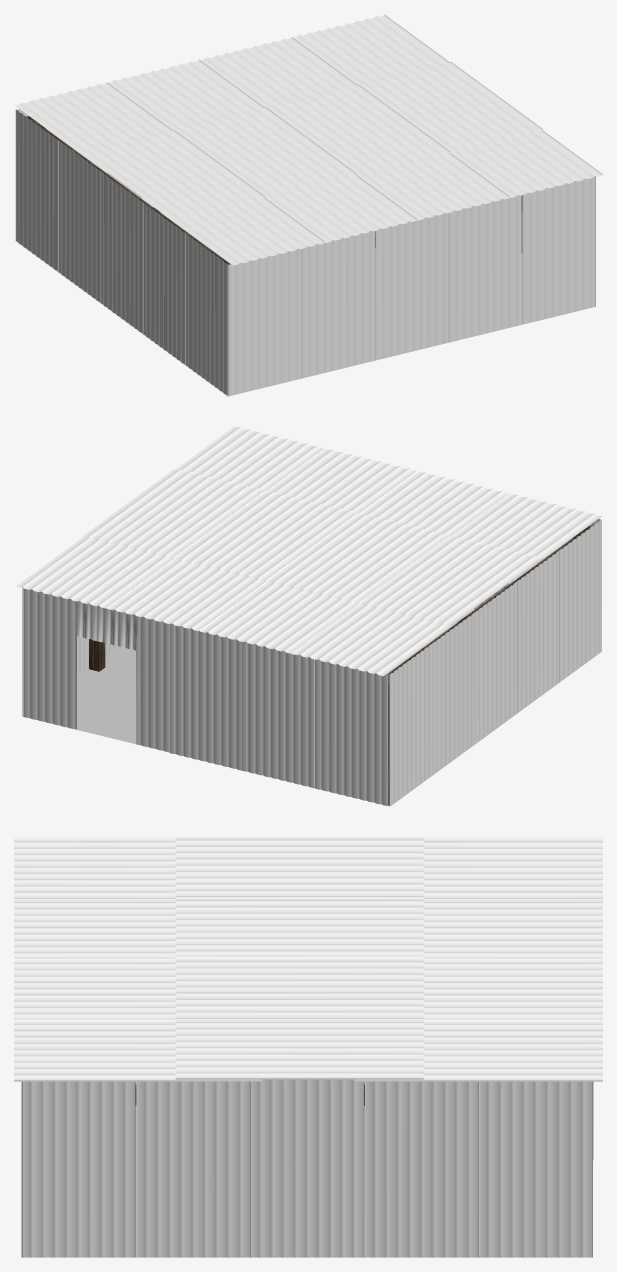
Rendered from MetalHouse3.fbx.
3 renders of one model, top to bottom at view 1: azimuth 30°, elevation 25°; view 2: azimuth 150°, elevation 25°; view 3: azimuth 270°, elevation 25°, orthographic. The views are drawn at different scales.
Parts seen in each view (by area): view 1: Roof, Cube.001, Right, Floor; view 2: Roof, Cube.002, Right, Floor, Left; view 3: Roof, Left, Floor.
Boxes of the visible parts, bbox=[...] form: Roof: bbox=[14, 14, 602, 265]; Cube.001: bbox=[228, 176, 595, 396]; Right: bbox=[15, 109, 230, 395]; Floor: bbox=[16, 213, 590, 396]; Roof: bbox=[14, 425, 601, 676]; Cube.002: bbox=[23, 588, 389, 806]; Right: bbox=[387, 520, 601, 806]; Floor: bbox=[29, 622, 601, 806]; Left: bbox=[22, 587, 118, 716]; Roof: bbox=[14, 835, 602, 1081]; Left: bbox=[21, 1079, 592, 1257]; Floor: bbox=[23, 1079, 591, 1257].
Bounding box in the file's own units: 8.41 × 2.91 × 8.55.
